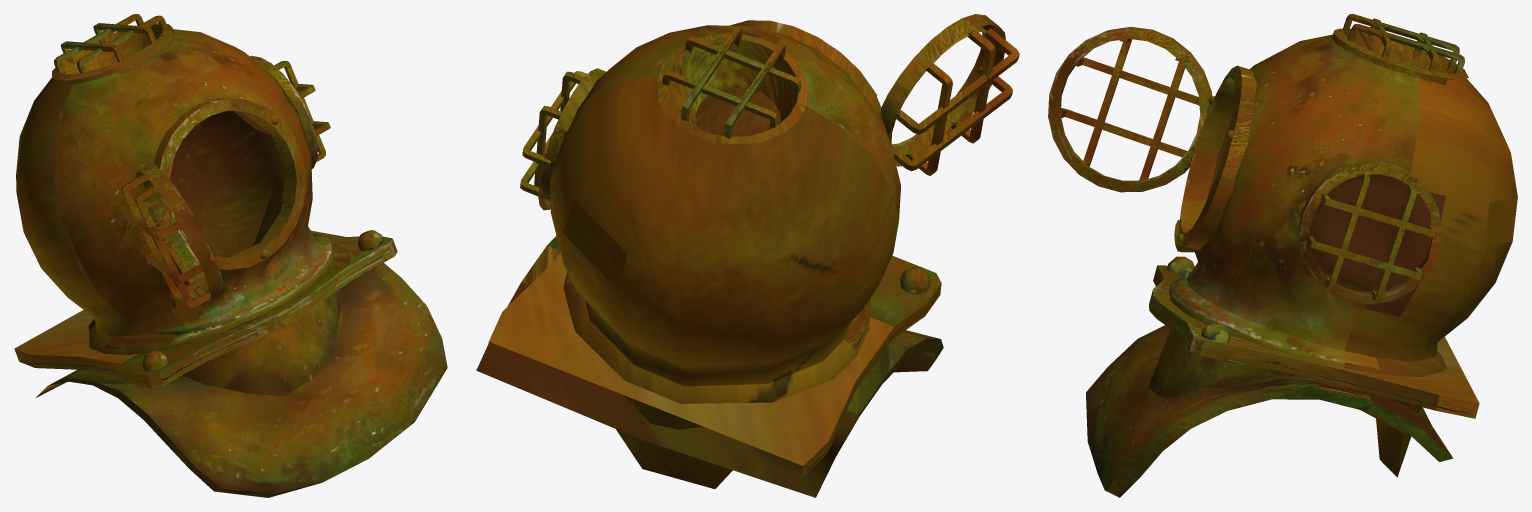
File: DivingHelmet.fbx
The picture shows the model from 3 angles, left to right: view 1: azimuth 30°, elevation 25°; view 2: azimuth 150°, elevation 25°; view 3: azimuth 270°, elevation 25°; orthographic projection. The views are drawn at different scales.
Parts seen in each view (by area): view 1: node_id30; view 2: node_id30; view 3: node_id30.
Part boxes in pixels (x1=…): node_id30: x1=14, y1=14, x2=447, y2=497; node_id30: x1=476, y1=14, x2=1019, y2=497; node_id30: x1=1048, y1=14, x2=1517, y2=497.
Size of the model in its own units: 0.4317 by 0.512 by 0.5065.
Materials: 1 (1 with a texture image).
